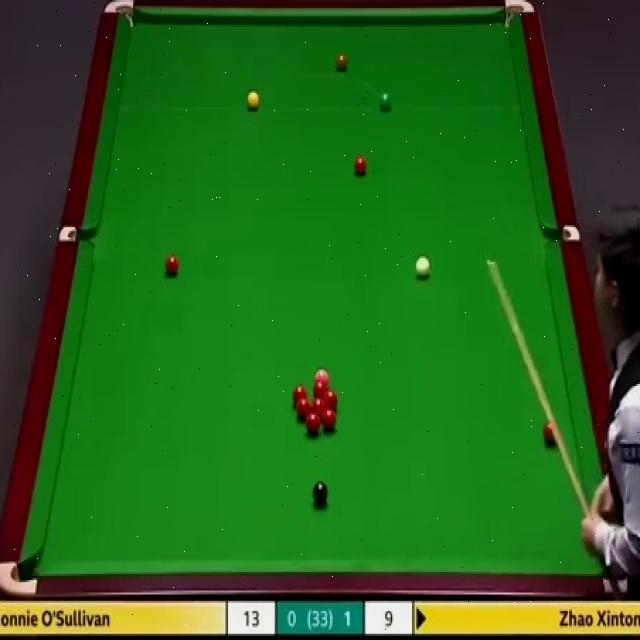black-ball: (311, 479, 328, 508)
brown-ball: (335, 52, 349, 73)
green-ball: (378, 92, 393, 114)
pink-ball: (314, 367, 331, 380)
red-ball: (542, 420, 560, 447), (322, 409, 336, 434), (306, 412, 321, 434), (166, 255, 180, 278), (292, 385, 307, 406), (310, 396, 326, 414), (354, 155, 368, 175), (324, 389, 336, 412), (314, 380, 329, 398), (296, 399, 310, 418), (246, 532, 246, 533)
white-ball: (414, 254, 432, 280)
yellow-ball: (246, 90, 260, 111)
